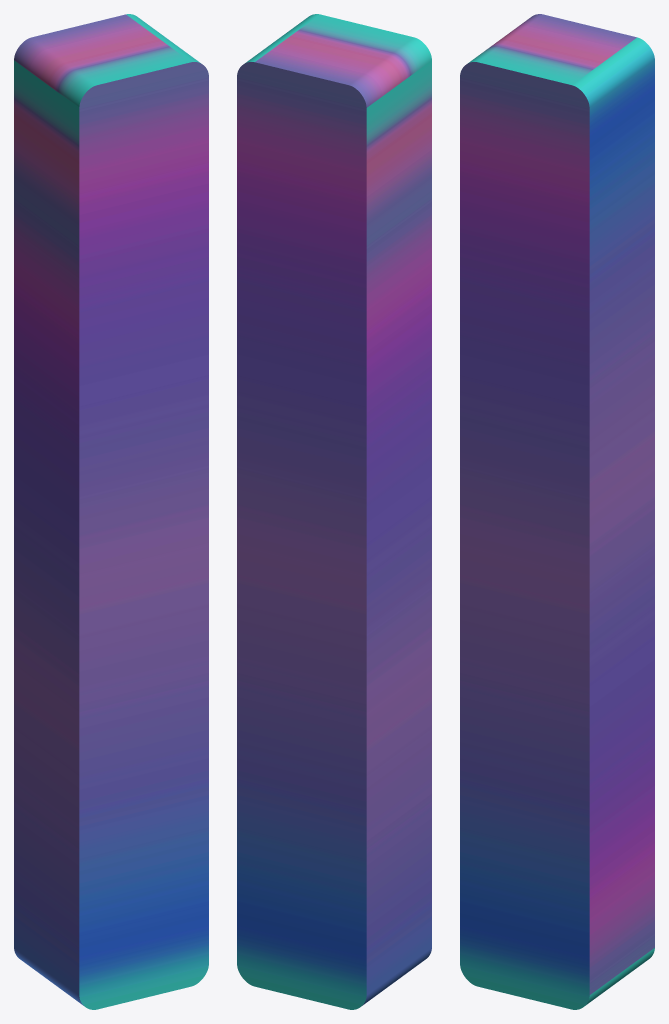
The model's file is Letter_I.gltf.
The picture shows the model from 3 angles, left to right: view 1: azimuth 30°, elevation 25°; view 2: azimuth 150°, elevation 25°; view 3: azimuth 330°, elevation 25°; orthographic projection.
Visible parts, largest first — view 1: Text; view 2: Text; view 3: Text.
Part boxes in pixels (<box>): Text: <box>14,14,208,1009</box>; Text: <box>237,14,431,1009</box>; Text: <box>460,14,654,1009</box>.
Size of the model in its own units: 0.0114 by 0.078 by 0.01.
